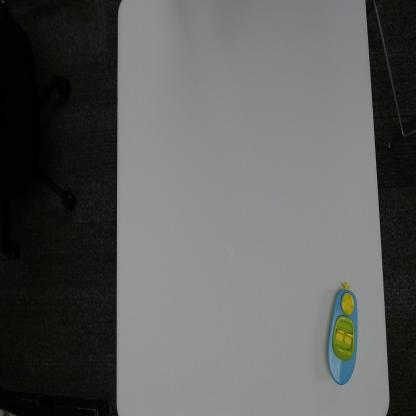Boat: (326, 274, 364, 388)
